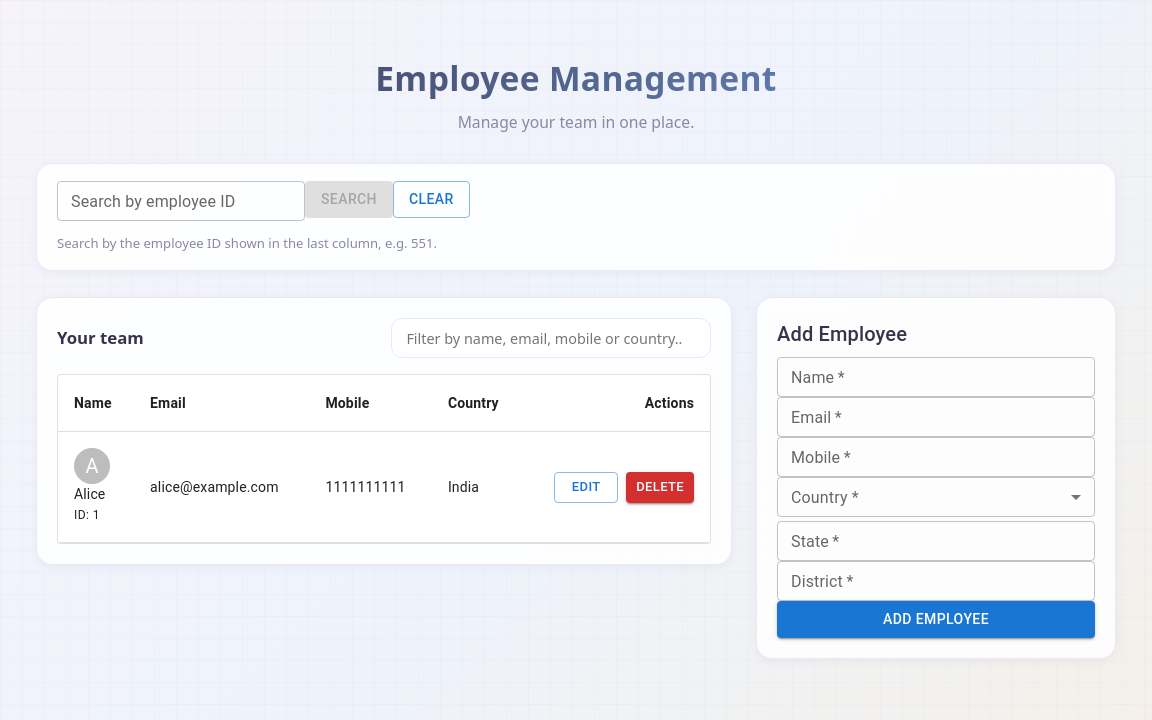
Scenario: EmployeesContainer › filters the table by name
Expected: the text "Alice" is shown, left=74, top=486, right=106, bottom=502
Type "Bob" into the search field named "Filter employees" at (551, 338), box left=391, top=318, right=711, bottom=358
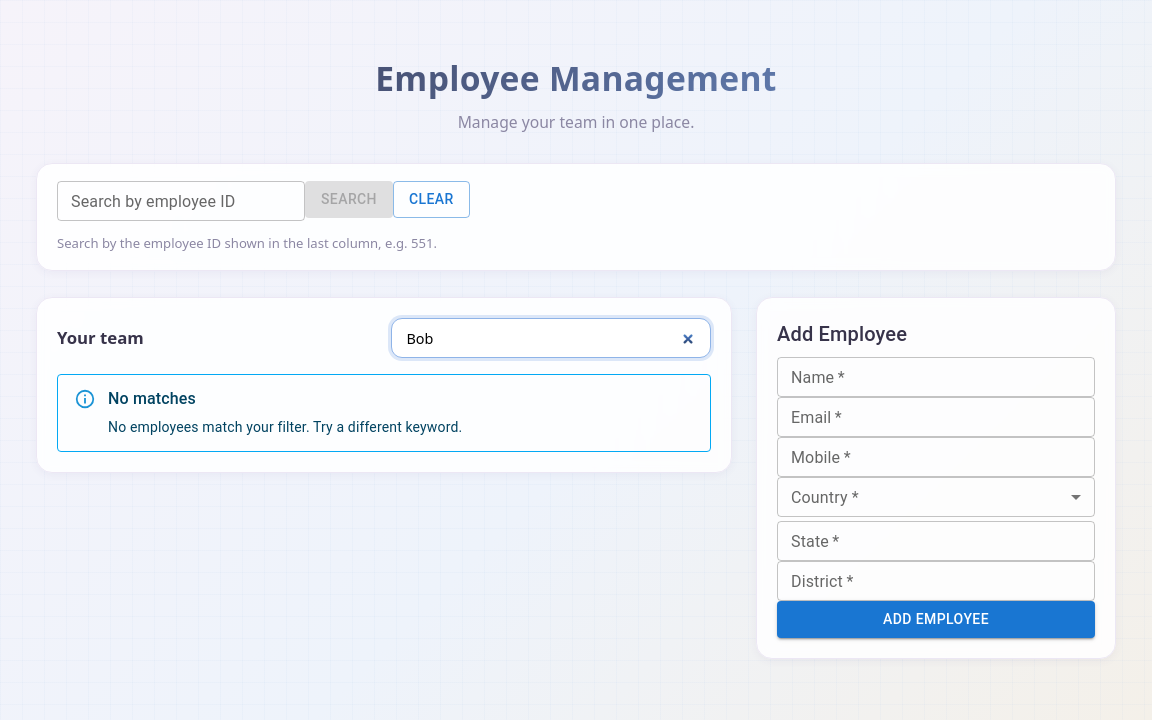
Result: the text "No matches" is shown at left=108, top=389, right=196, bottom=408
